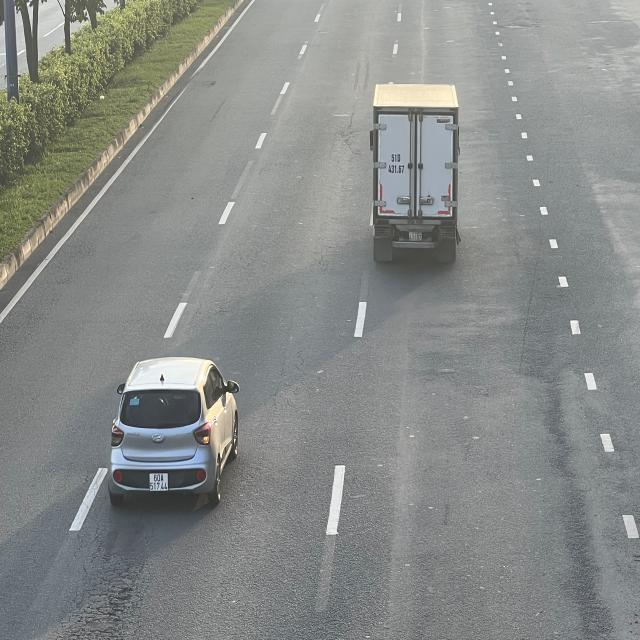car: (112, 356, 244, 506)
truck: (371, 87, 461, 269)
